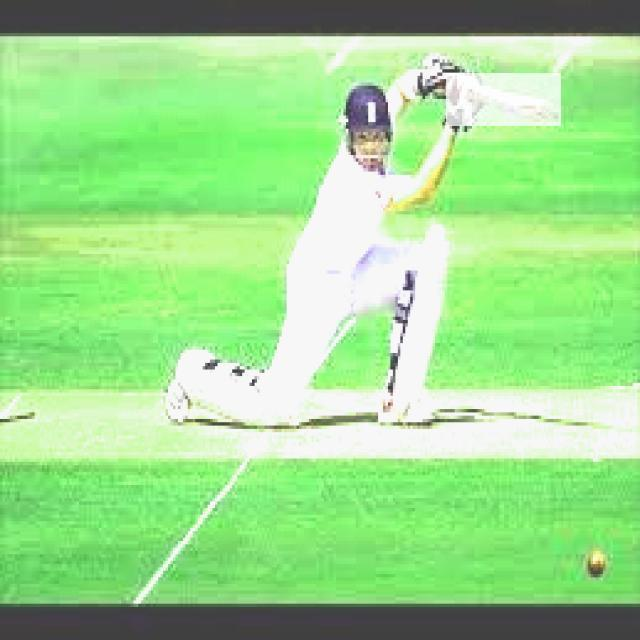bat: (449, 76, 570, 129)
toe: (545, 99, 561, 126)
